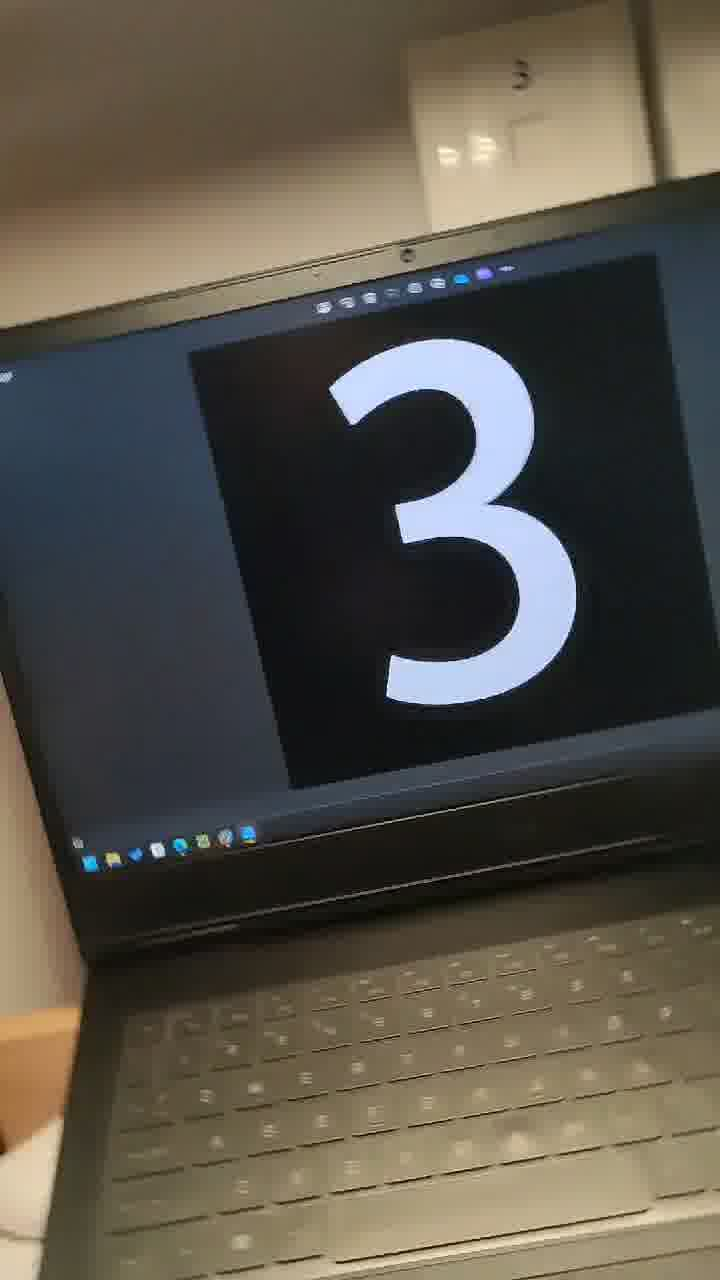three: (252, 299, 642, 823)
